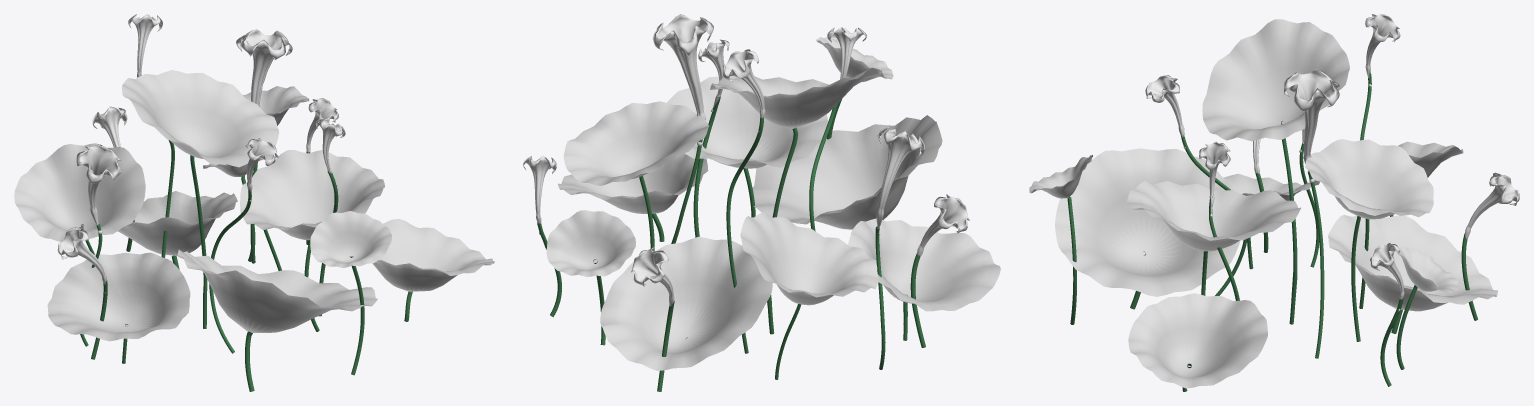
Rendered from lilypads flat3.fbx.
The picture shows the model from 3 angles, left to right: view 1: azimuth 30°, elevation 25°; view 2: azimuth 150°, elevation 25°; view 3: azimuth 270°, elevation 25°; orthographic projection. The views are drawn at different scales.
Visible parts, largest first — view 1: lily pad 1.026; view 2: lily pad 1.026; view 3: lily pad 1.026.
Boxes of the visible parts, x1,y1,x2,y2 form: lily pad 1.026: [14, 14, 494, 391]; lily pad 1.026: [523, 14, 1000, 391]; lily pad 1.026: [1029, 14, 1519, 391].
Size of the model in its own units: 1647 by 1132 by 1680.
